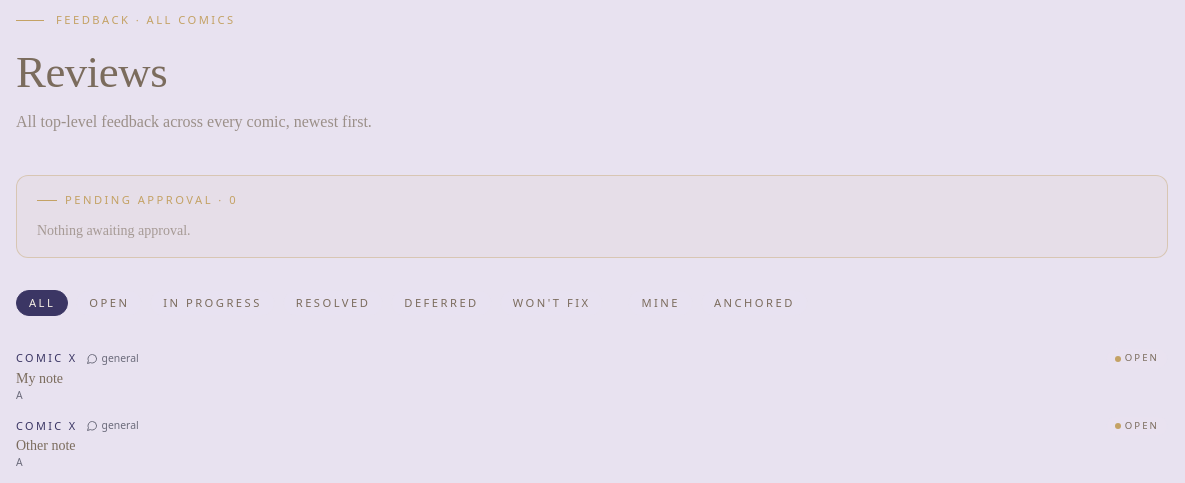
ReviewsPageShell › Mine toggle filters to current user only
Click the button "Mine" at (661, 303), box [628,290,693,316]
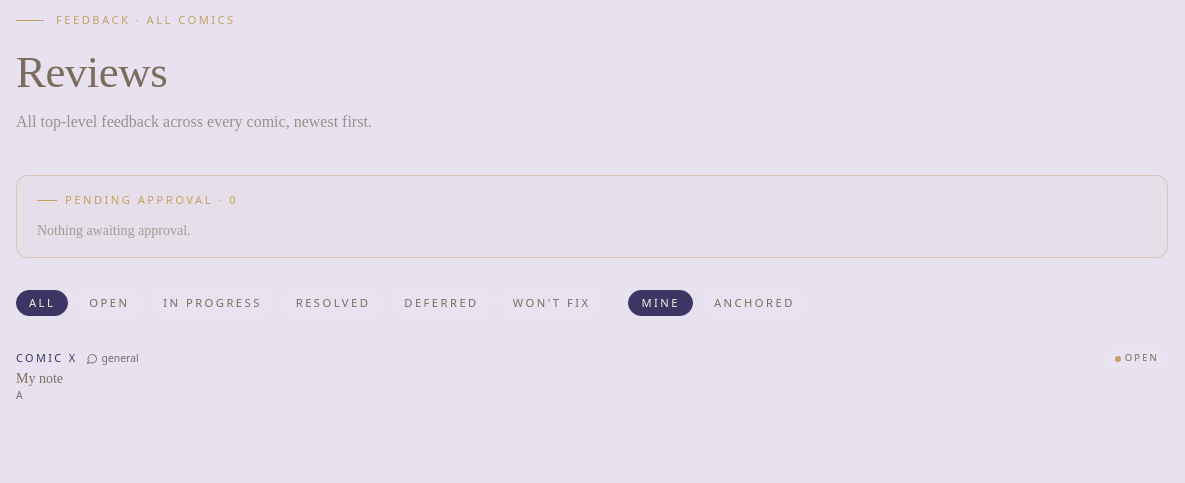
Expected: the text "My note" is shown, [16,371,63,386]
Now the link "Other note" is gone
